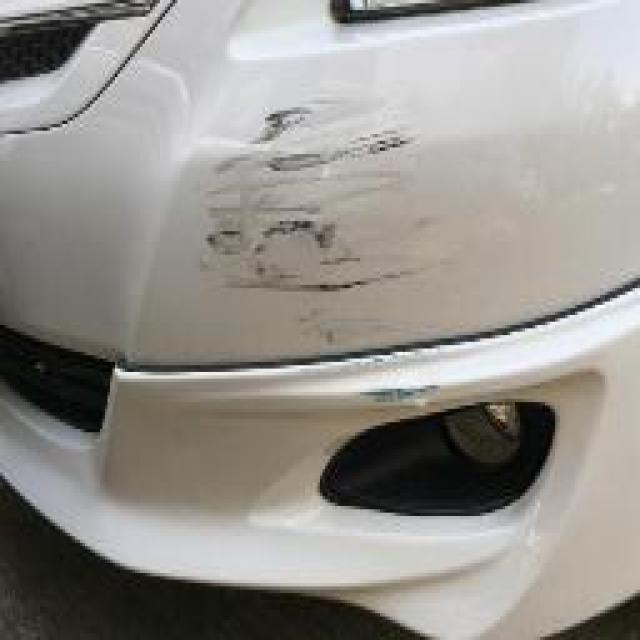Bumper: (138, 57, 640, 355)
